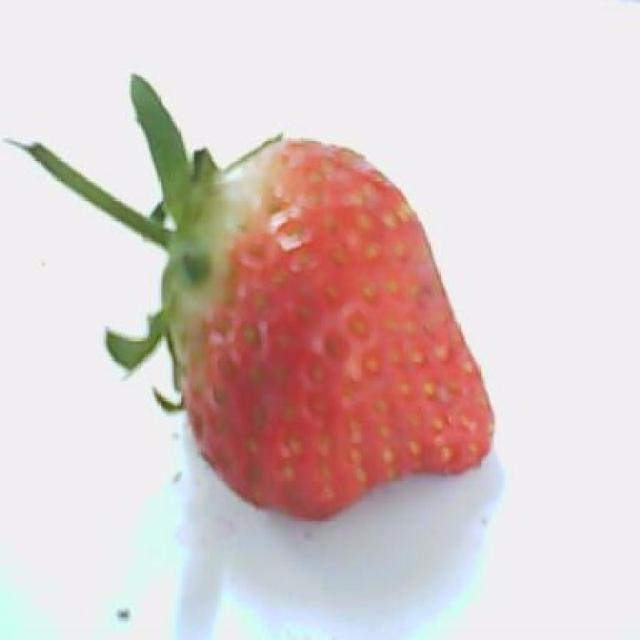strawberry: (9, 75, 492, 518)
